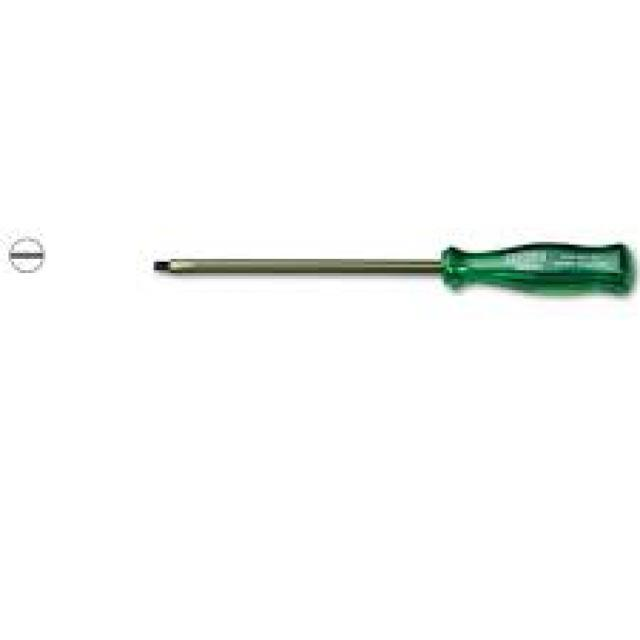screwdriver: (127, 234, 636, 300)
